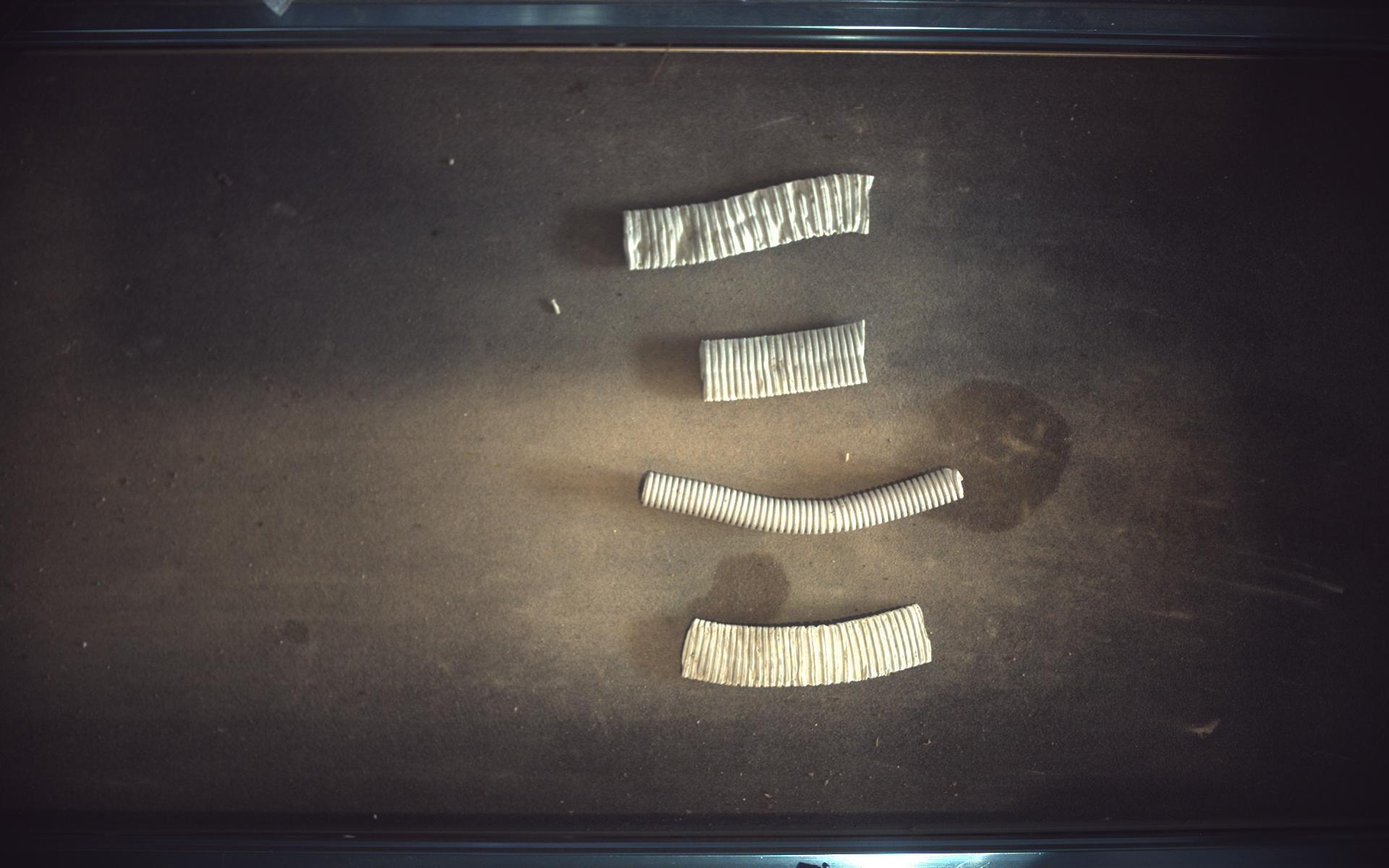pipes: (624, 173, 875, 270), (642, 468, 966, 535), (684, 605, 934, 688), (701, 320, 868, 401)
